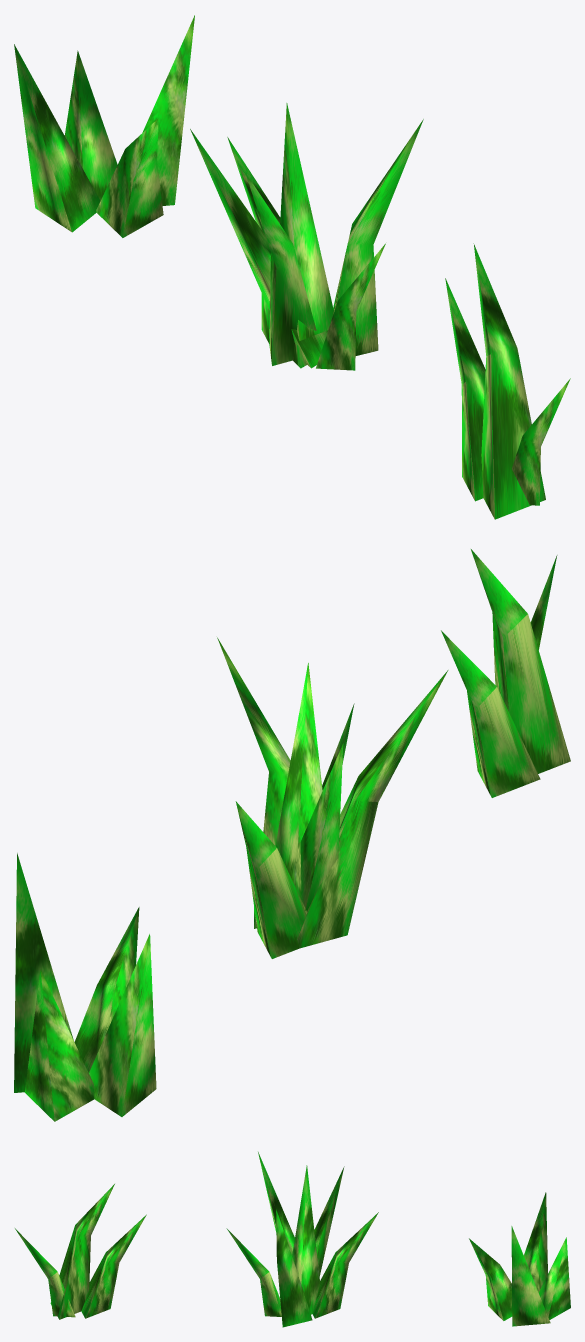
File: Grass 1.fbx
3 views of the same model, one above another, from view 1: azimuth 30°, elevation 25°; view 2: azimuth 150°, elevation 25°; view 3: azimuth 270°, elevation 25° (orthographic). The views are drawn at different scales.
Visible parts, largest first — view 1: Cone.006, Cone.009, Cone.003; view 2: Cone.006, Cone.009, Cone.003; view 3: Cone.006, Cone.009, Cone.003.
Part boxes in pixels (x1,y1,x2,y2): Cone.006: [190, 103, 423, 370]; Cone.009: [14, 15, 194, 237]; Cone.003: [445, 243, 570, 519]; Cone.006: [217, 637, 448, 958]; Cone.009: [14, 853, 156, 1121]; Cone.003: [441, 549, 570, 797]; Cone.006: [226, 1152, 378, 1327]; Cone.009: [469, 1192, 570, 1326]; Cone.003: [15, 1184, 146, 1319].
Bounding box in the file's own units: 165 × 202 × 710.
